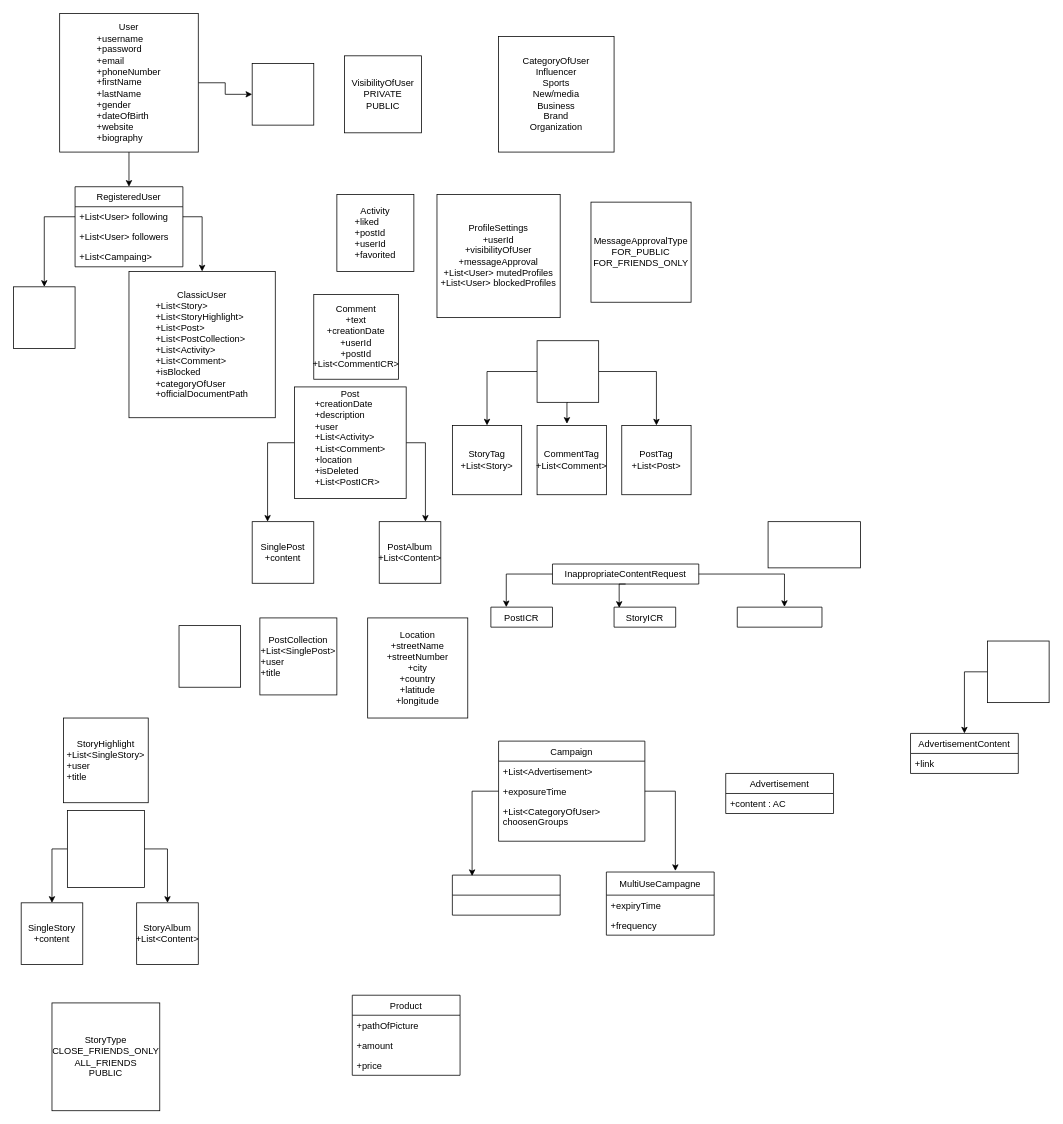
Image size: 1063x1124. Some labels were removed from this diagram. The shapes that lost their labels are listed below. From the top down, each one's centre as x and y in pixels, then its label:
At point 282,94: "Admin ...".
At point 44,317: "Agent ...".
At point 567,371: "Tag +name".
At point 813,544: "ICR - InappropriateContentRequest".
At point 779,616: "CommentICR".
At point 209,656: "ContentType PICTURE VIDEO".
At point 1018,671: "Content +contentType +path".
At point 105,848: "Story +creationDate +user +storyType +location +isDeleted +List<StoryICR>".
At point 506,894: "DisposableCampaign".
